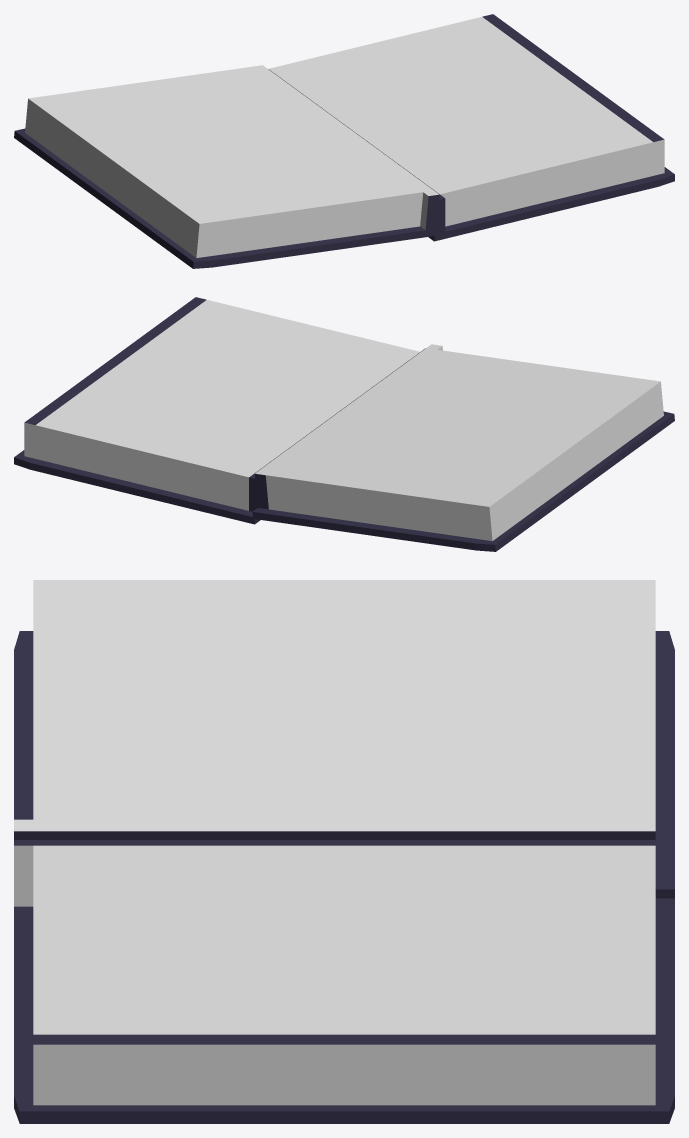
Rendered from book.fbx.
The picture shows the model from 3 angles, top to bottom: view 1: azimuth 30°, elevation 25°; view 2: azimuth 150°, elevation 25°; view 3: azimuth 270°, elevation 25°; orthographic projection. The views are drawn at different scales.
Visible parts, largest first — view 1: Book.002, Book.001; view 2: Book.002, Book.001; view 3: Book.001, Book.002.
Part boxes in pixels (x1,y1,x2,y2): Book.002: (14,65,439,268); Book.001: (268,14,674,241); Book.002: (252,344,674,551); Book.001: (14,297,425,524); Book.001: (14,840,674,1123); Book.002: (14,580,674,898).
Size of the model in its own units: 48.2 by 6.65 by 31.56.
